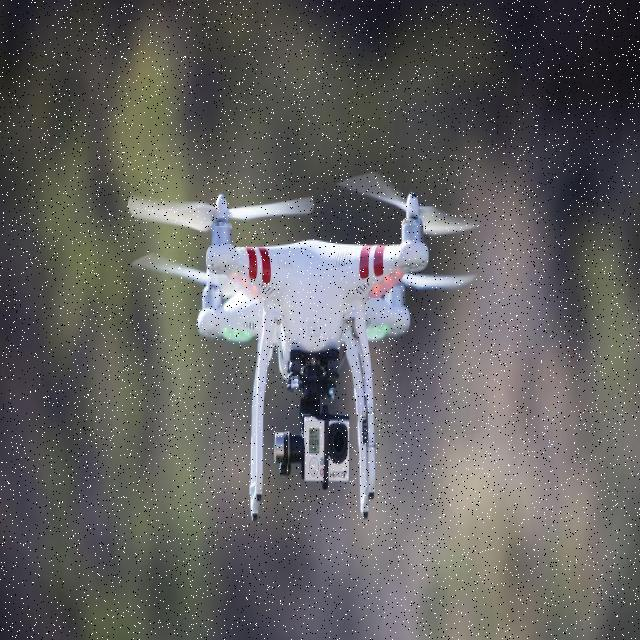UAV: (194, 180, 432, 526)
